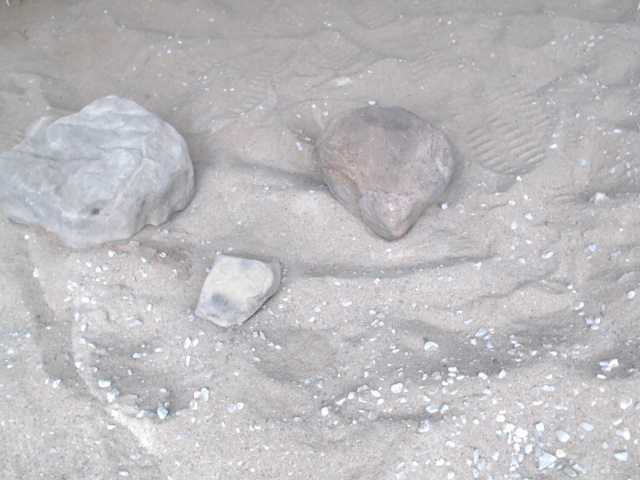rock: (1, 91, 201, 256), (304, 101, 460, 247), (188, 250, 287, 334)
